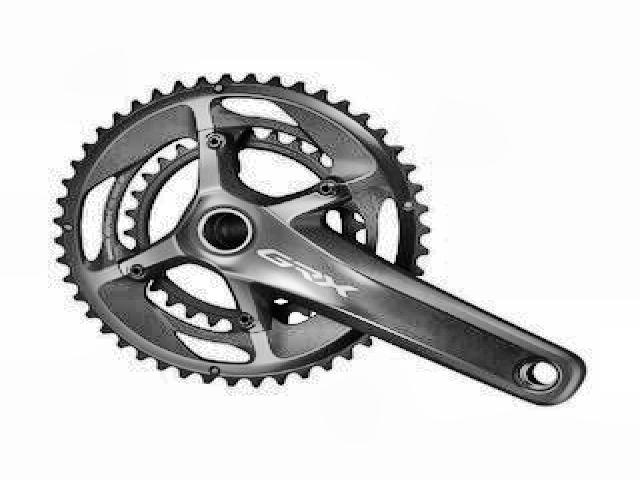cranks_set: (48, 73, 589, 410)
